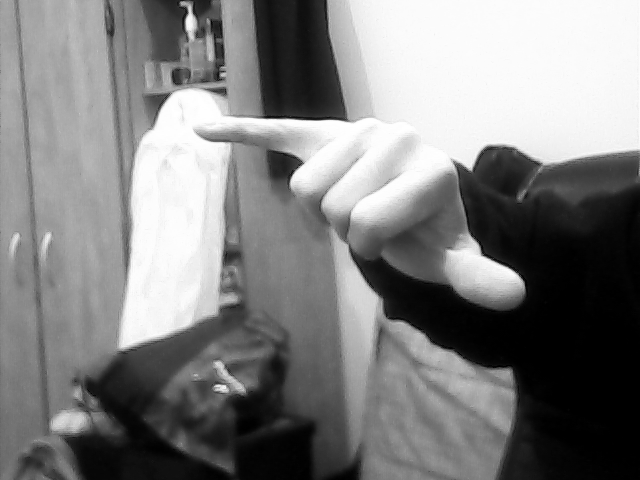aloha: (190, 94, 532, 312)
